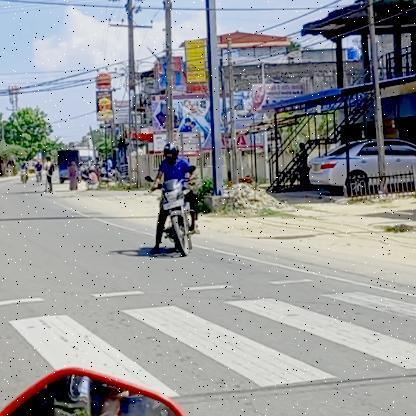motorcycle: (144, 176, 204, 258)
